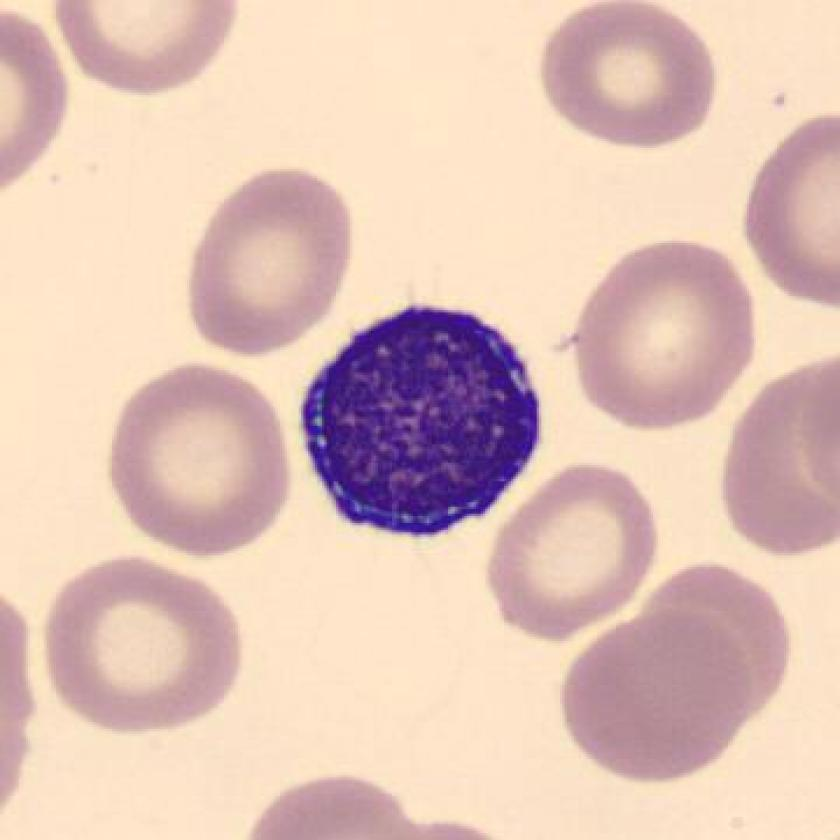lymphocyte: (279, 288, 566, 556)
